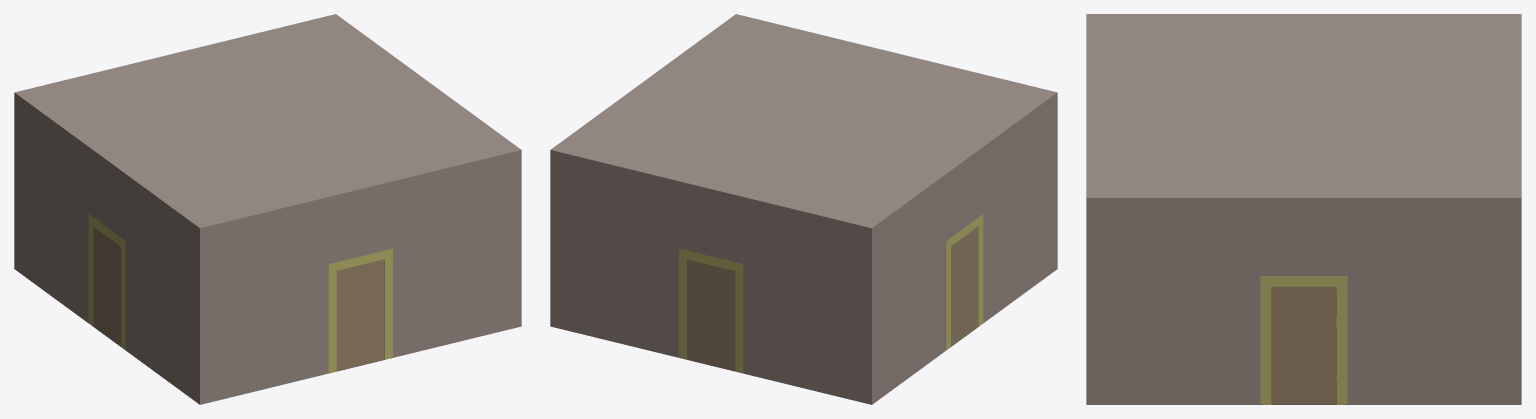
File: Room28_JunkRoom.fbx
3 renders of one model, left to right at view 1: azimuth 30°, elevation 25°; view 2: azimuth 150°, elevation 25°; view 3: azimuth 270°, elevation 25°, orthographic. The views are drawn at different scales.
Visible parts, largest first — view 1: Roof, WallSlicedPosZ, WallSlicedPosX, DoorPosZ, DoorPosX, DoorFramePosZ, DoorFramePosX, WallSlicedNegX, WallSlicedNegZ; view 2: Roof, WallSlicedNegZ, WallSlicedPosX, DoorNegZ, DoorPosX, DoorFrameNegZ, DoorFramePosX, WallSlicedPosZ, WallSlicedNegX; view 3: Roof, WallSlicedNegX, DoorNegX, DoorFrameNegX, WallSlicedPosZ, WallSlicedNegZ, WallSlicedPosX.
Part boxes in pixels (x1,y1,x2,y2): Roof: (17, 15, 518, 227); WallSlicedPosZ: (198, 149, 521, 404); WallSlicedPosX: (14, 92, 201, 403); DoorPosZ: (336, 259, 384, 370); DoorPosX: (93, 226, 120, 346); DoorFramePosZ: (328, 248, 392, 372); DoorFramePosX: (88, 214, 125, 349); WallSlicedNegX: (335, 14, 521, 326); WallSlicedNegZ: (14, 14, 336, 268); Roof: (553, 15, 1054, 227); WallSlicedNegZ: (550, 149, 873, 404); WallSlicedPosX: (869, 92, 1056, 404); DoorNegZ: (687, 259, 735, 370); DoorPosX: (951, 226, 978, 346); DoorFrameNegZ: (679, 248, 743, 372); DoorFramePosX: (946, 214, 983, 349); WallSlicedPosZ: (735, 14, 1057, 269); WallSlicedNegX: (550, 14, 736, 326); Roof: (1088, 14, 1519, 197); WallSlicedNegX: (1086, 197, 1521, 404); DoorNegX: (1271, 286, 1336, 404); DoorFrameNegX: (1260, 276, 1347, 404); WallSlicedPosZ: (1086, 14, 1089, 404); WallSlicedNegZ: (1518, 14, 1521, 404); WallSlicedPosX: (1088, 14, 1521, 14).
Bounding box in the file's own units: 100 × 52.78 × 100.
